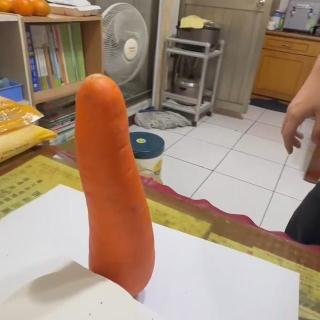carrot: (74, 74, 157, 298)
